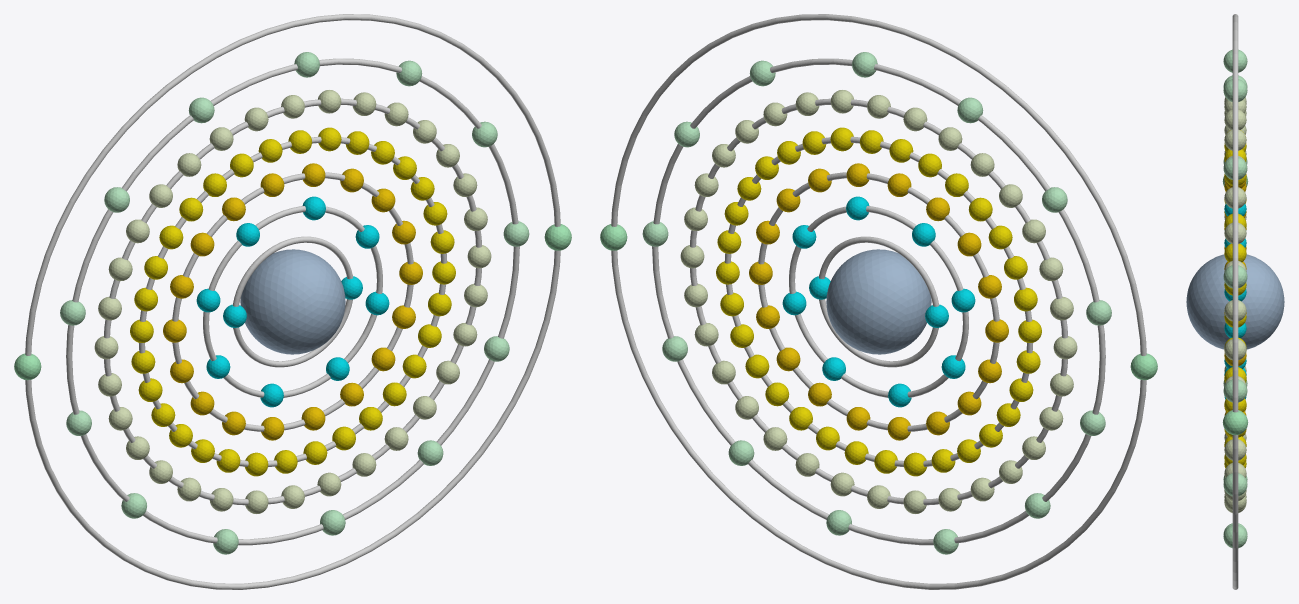
3 views of the same model, side by side, from view 1: azimuth 30°, elevation 25°; view 2: azimuth 150°, elevation 25°; view 3: azimuth 270°, elevation 25° (orthographic). The views are drawn at different scales.
Visible parts, largest first — view 1: world; view 2: world; view 3: world.
Boxes of the visible parts, x1,y1,x2,y2 form: world: (14, 14, 571, 589); world: (600, 14, 1157, 589); world: (1186, 14, 1284, 589).
Size of the model in its own units: 2.67 by 2.59 by 0.44.
